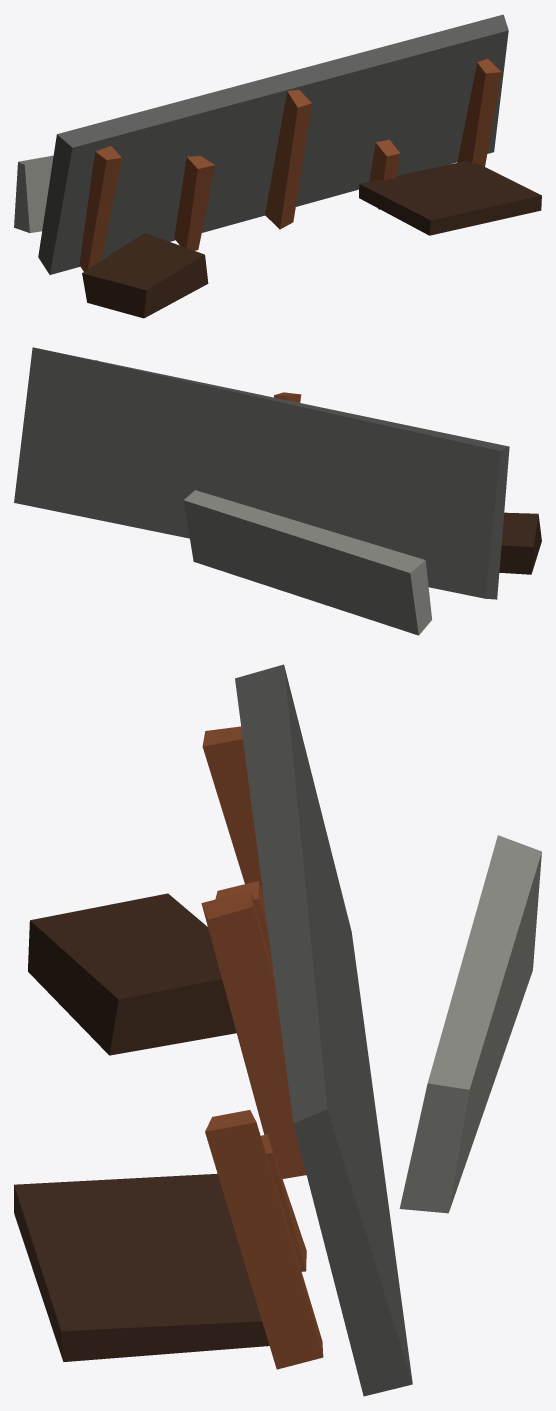
Rendered from hull_chunk.glb.
The picture shows the model from 3 angles, top to bottom: view 1: azimuth 30°, elevation 25°; view 2: azimuth 150°, elevation 25°; view 3: azimuth 270°, elevation 25°; orthographic projection. The views are drawn at different scales.
Parts seen in each view (by area): view 1: hull_chunk; view 2: hull_chunk; view 3: hull_chunk.
Boxes of the visible parts, <box> form: hull_chunk: <box>14,14,541,318</box>; hull_chunk: <box>14,347,541,635</box>; hull_chunk: <box>14,664,541,1396</box>.
Size of the model in its own units: 11.12 by 3.43 by 5.53.
